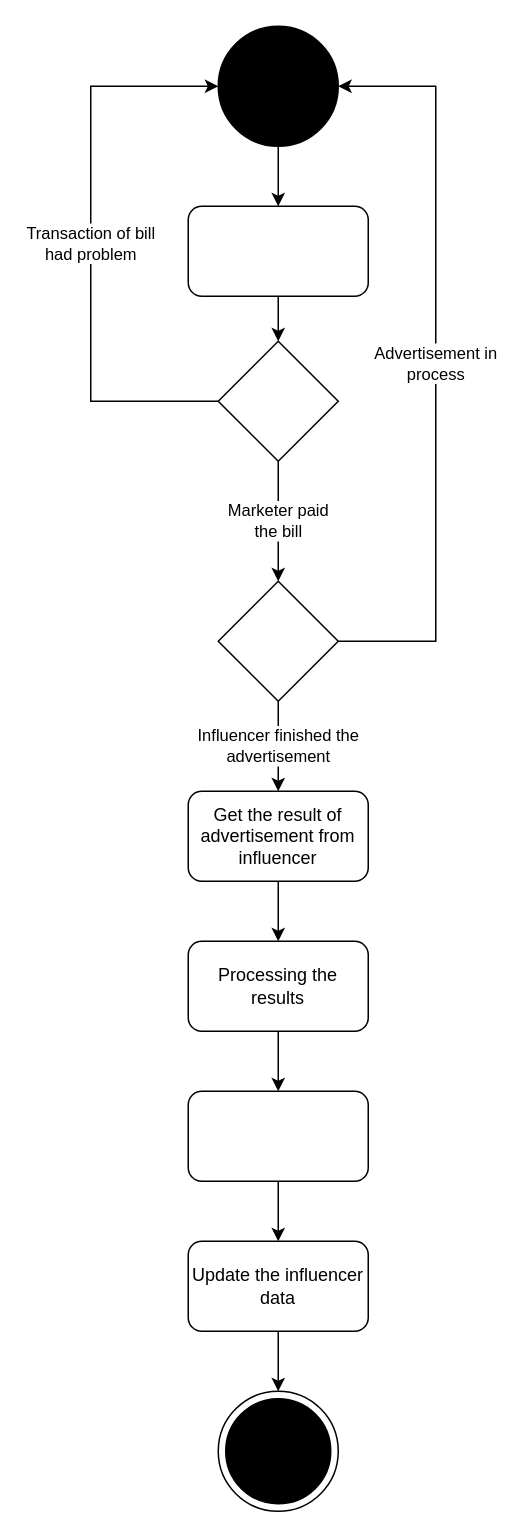
Image size: 522x1538. Some labels were removed from this diagram. The centre of each missing label's shape, as x and y in pixels:
"Choose the advertisement" goes at point (277, 250).
"Return the advertisement result to marketer" goes at point (277, 1135).
